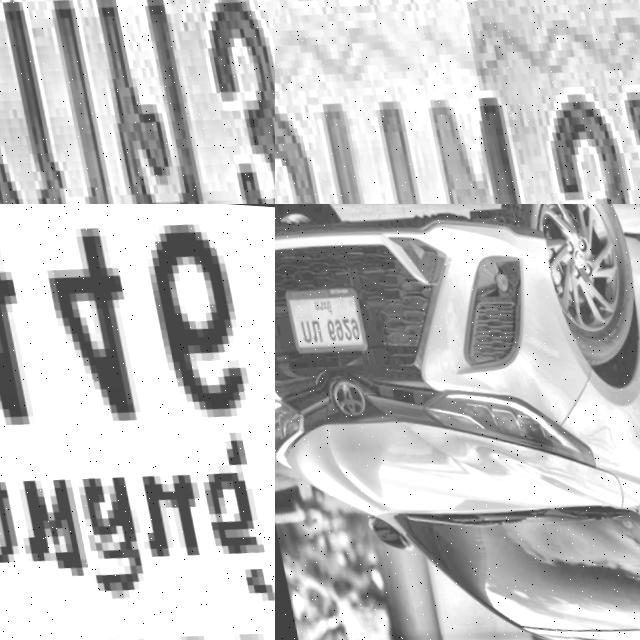license-plate: (0, 204, 275, 640), (275, 0, 640, 204), (0, 0, 275, 204), (275, 276, 366, 360)
